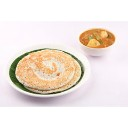dosa: (19, 50, 80, 90)
